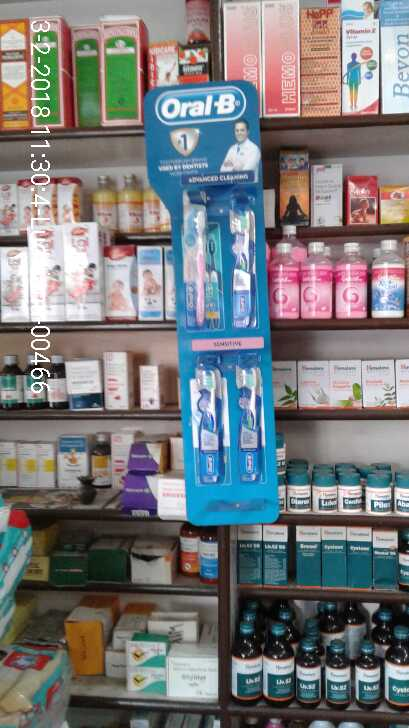oralb: (180, 190, 228, 334), (196, 355, 235, 488), (226, 192, 261, 327), (234, 345, 266, 481)
